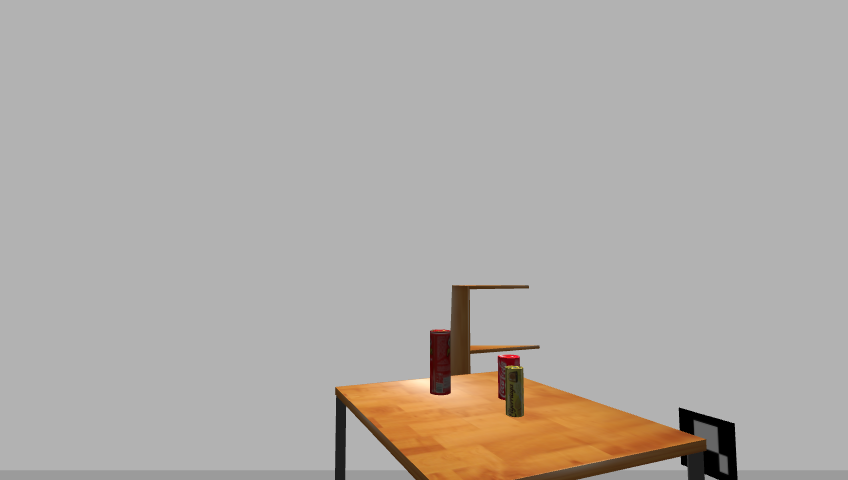aruco marker: (673, 406, 743, 480)
biscuits pack: (506, 368, 525, 418)
bookshelf: (448, 282, 533, 415)
coke can: (496, 354, 522, 401)
dinner table: (328, 371, 711, 480)
pringles can: (427, 329, 451, 397)
